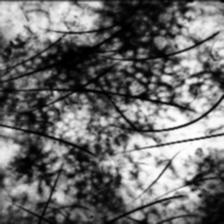Potentially Malignant Skin Tumors: (0, 0, 204, 214)
